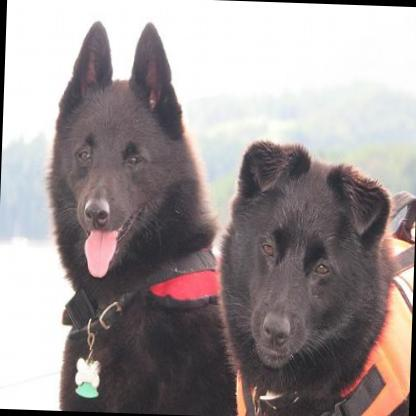schipperke: (35, 12, 254, 416), (212, 136, 416, 416)
